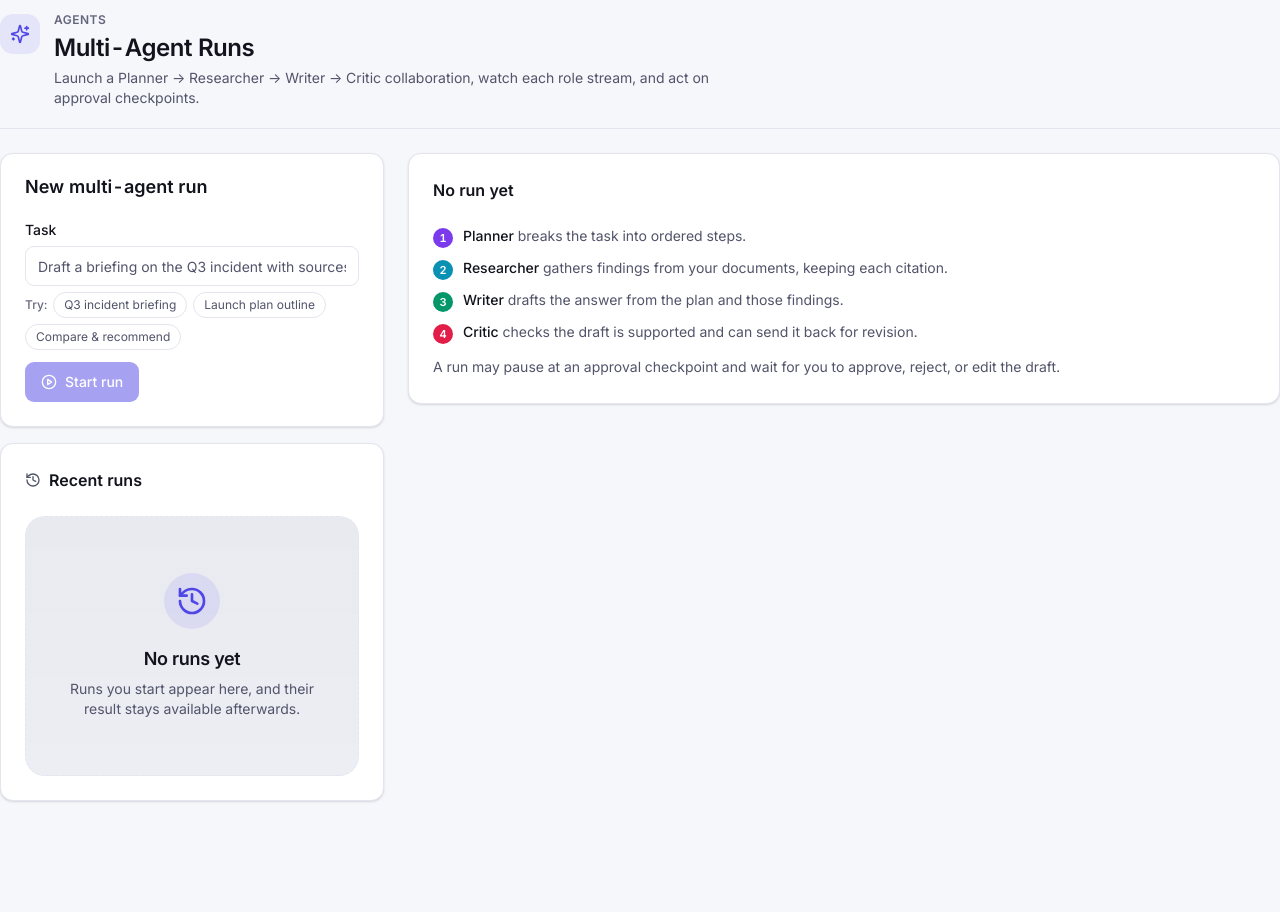
Test: MultiAgentRunView (MSW SSE) › renders the approval checkpoint with approve/reject/edit (10.3)
Type "draft a brief" into the field with test id "multi-task" at {"x": 192, "y": 266}, box x1=25 y1=246 x2=359 y2=286
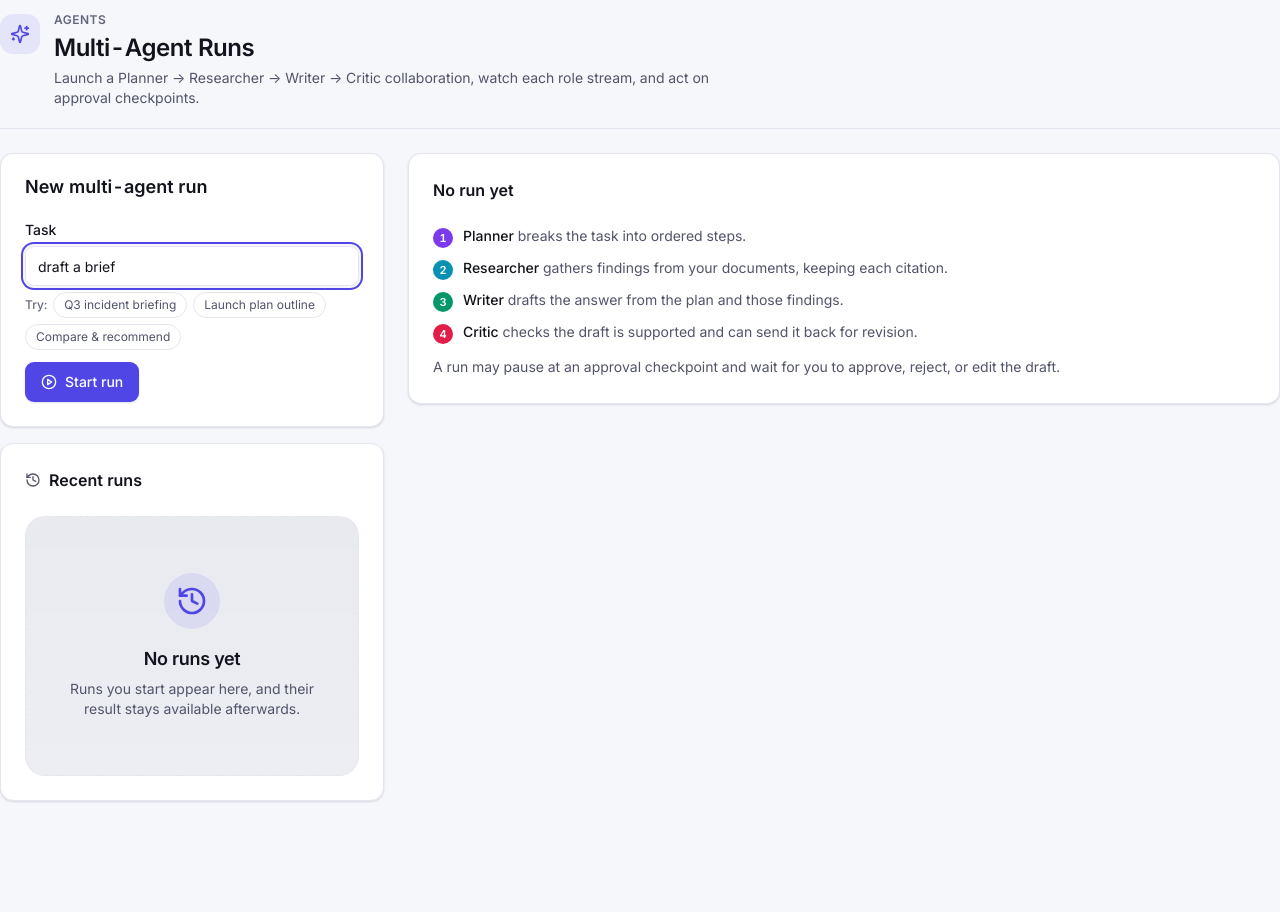
Click the button with test id "multi-start" at {"x": 82, "y": 382}, box x1=25 y1=362 x2=139 y2=402
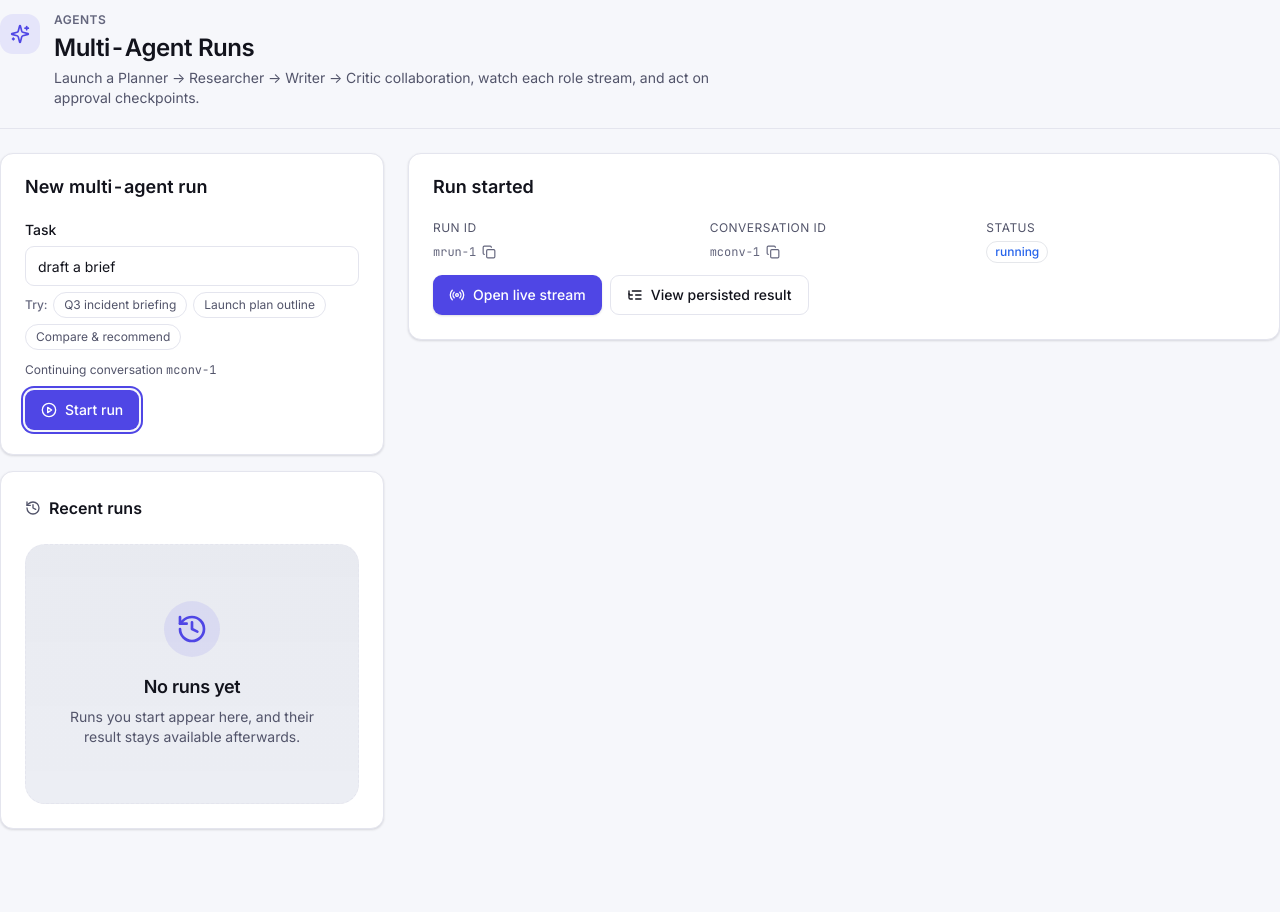
Now the element with test id "multi-run-summary" is shown, box x1=408 y1=153 x2=1279 y2=340
Click the button with test id "multi-stream-open" at {"x": 517, "y": 295}, box x1=433 y1=275 x2=602 y2=315
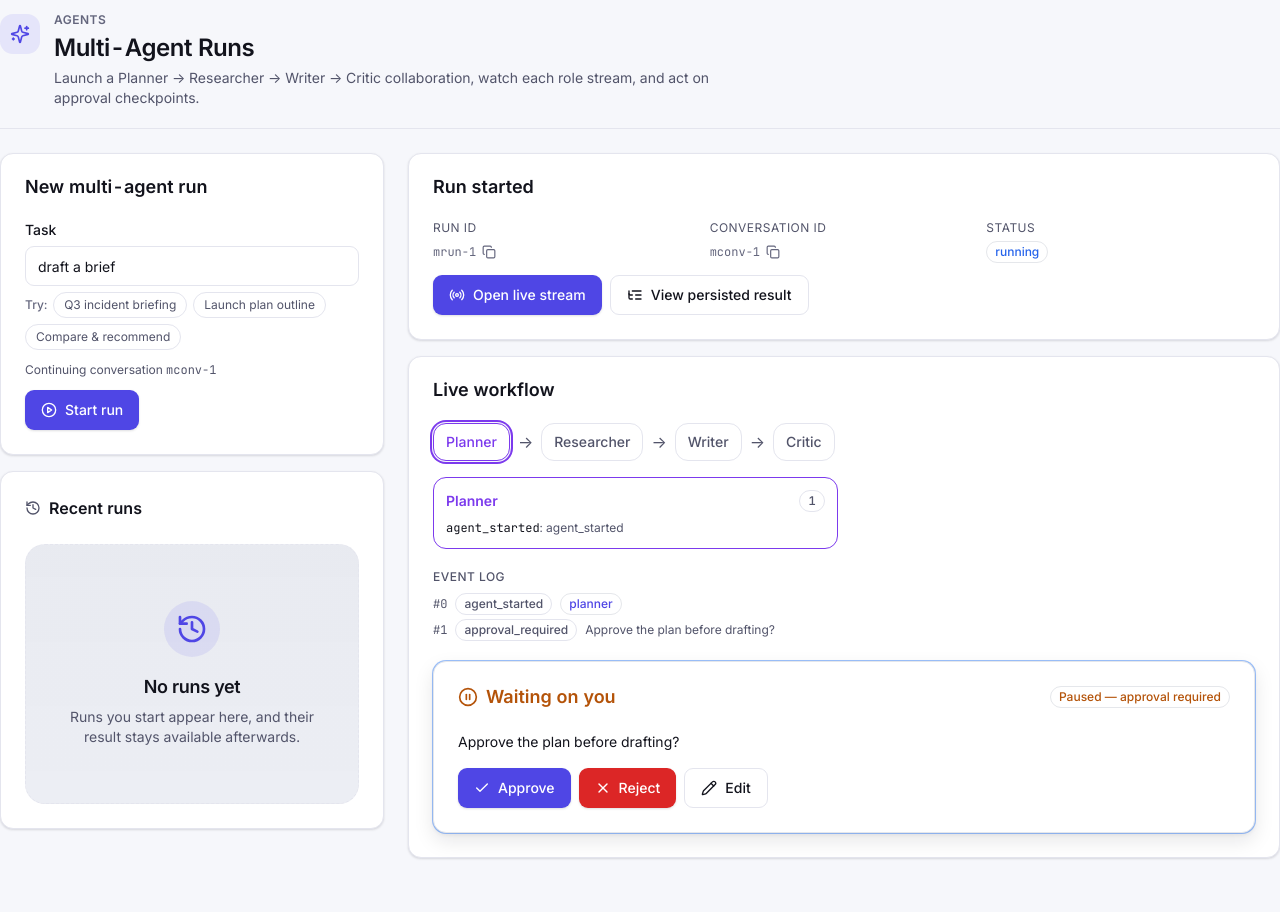
Now the element with test id "approval-panel" is shown, box x1=433 y1=661 x2=1255 y2=833
Now the text with test id "approval-checkpoint" shows "Approve the plan", box x1=458 y1=733 x2=679 y2=750
Now the button with test id "approval-approve" is shown, box x1=458 y1=768 x2=571 y2=808
